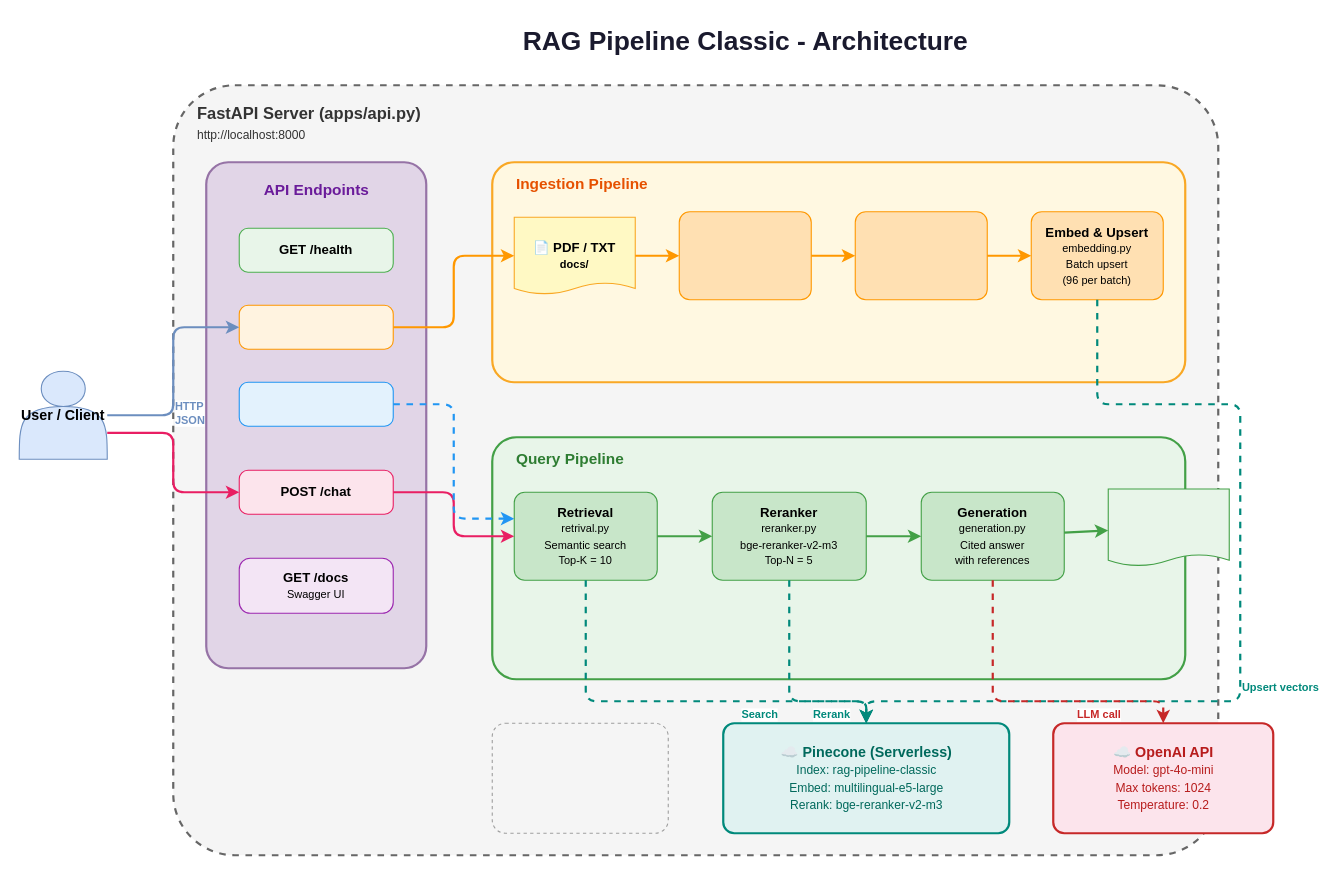
Image size: 1339x875. Some labels were removed from this diagram. The shapes that lost their labels are listed below. From the top down, each one's centre as x and y in pixels, then its label:
At point 744,255: "Ingestion ingestion.py Extract text from pages".
At point 920,255: "Chunking 512 chars 64 overlap page tracking".
At point 315,326: "POST /ingest".
At point 315,403: "POST /search".
At point 1168,527: "📝 Answer with citations & sources".
At point 579,777: "⚙️ Config config.py + .env API keys, chunk size, model settings".
